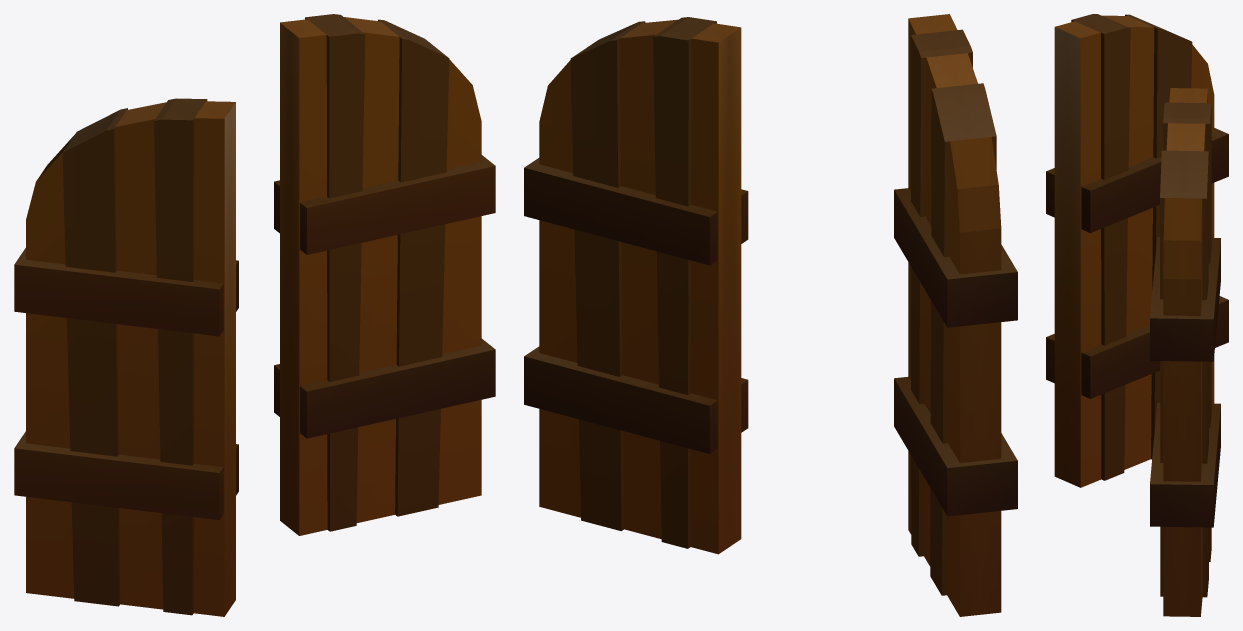
The model's file is door.fbx.
3 views of the same model, side by side, from view 1: azimuth 30°, elevation 25°; view 2: azimuth 150°, elevation 25°; view 3: azimuth 270°, elevation 25° (orthographic). The views are drawn at different scales.
Parts seen in each view (by area): view 1: Cube; view 2: Cube; view 3: Cube.
Part boxes in pixels (x1,y1,x2,y2): Cube: [14, 14, 495, 616]; Cube: [524, 14, 1017, 616]; Cube: [1046, 14, 1228, 616].
Size of the model in its own units: 260 by 266 by 98.23.
